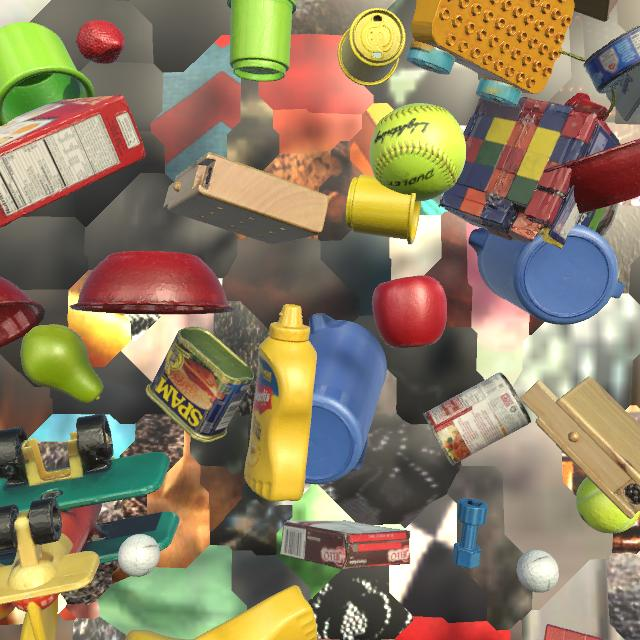ycb_003_cracker_box: (0, 95, 146, 228)
ycb_004_sugar_box: (606, 65, 640, 121)
ycb_005_tomato_soup_can: (423, 372, 531, 466), (613, 251, 621, 282)
ycb_006_mustard_bottle: (244, 304, 317, 502), (193, 585, 317, 640)
ycb_007_tuna_fish_can: (583, 25, 640, 94)
ycb_008_pudding_box: (280, 520, 411, 570)
ycb_010_potted_meat_can: (146, 326, 254, 442)
ycb_011_banana: (20, 598, 58, 640), (125, 630, 191, 640)
ycb_012_strawberry: (76, 20, 125, 64)
ycb_013_apple: (372, 275, 447, 348)
ycb_015_peach: (0, 564, 15, 620)
ycb_016_pear: (21, 324, 103, 403)
